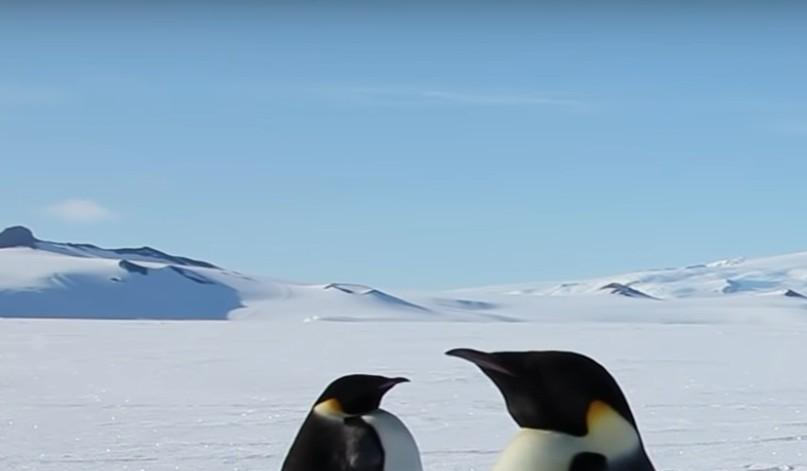Emperor Penguin: (438, 334, 735, 471), (270, 355, 436, 471)
